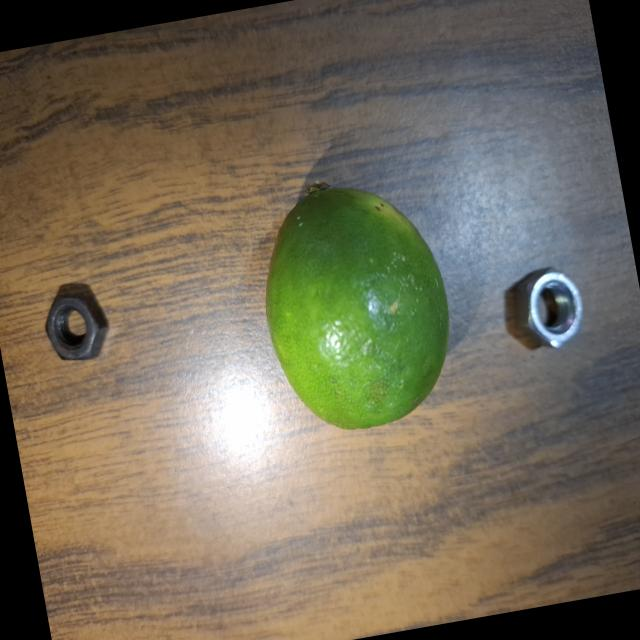limon: (234, 154, 472, 453)
milimetrico: (28, 258, 122, 376)
tuerca: (504, 244, 607, 362)
